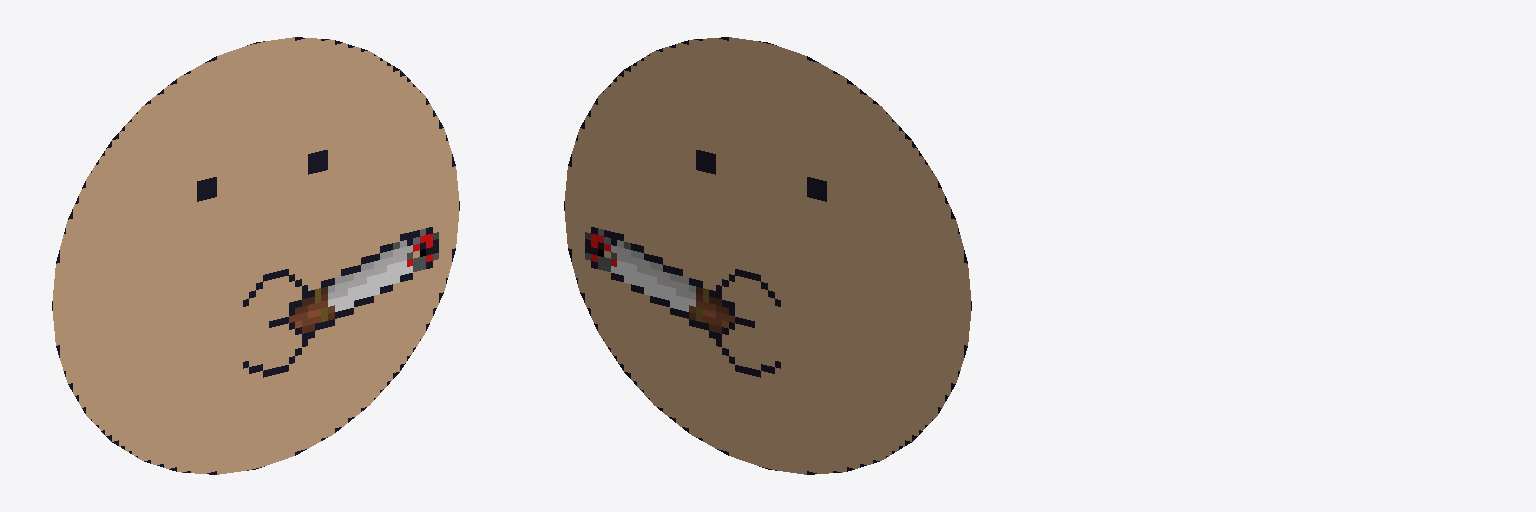
The picture shows the model from 3 angles: view 1: azimuth 30°, elevation 25°; view 2: azimuth 150°, elevation 25°; view 3: azimuth 270°, elevation 25°; orthographic projection.
Parts seen in each view (by area): view 1: 円柱; view 2: 円柱; view 3: none.
Boxes of the visible parts, <box> form: 円柱: <box>52,37,459,474</box>; 円柱: <box>564,37,971,474</box>.
Bounding box in the file's own units: 2 × 2 × 0.
1 materials, 1 textured.